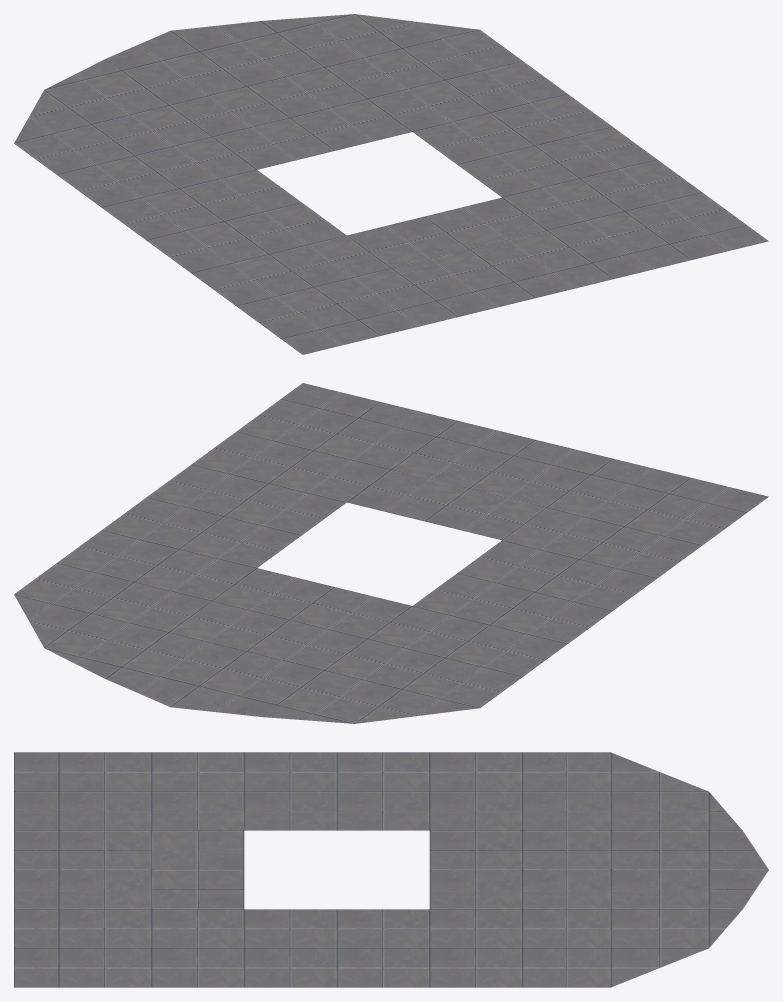
The model's file is Floor_planar_001.FBX.
3 renders of one model, top to bottom at view 1: azimuth 30°, elevation 25°; view 2: azimuth 150°, elevation 25°; view 3: azimuth 270°, elevation 25°, orthographic. The views are drawn at different scales.
Visible parts, largest first — view 1: Floor_planar_001; view 2: Floor_planar_001; view 3: Floor_planar_001.
Part boxes in pixels (left/top/right/bottom): Floor_planar_001: left=14, top=14, right=768, bottom=354; Floor_planar_001: left=14, top=383, right=768, bottom=723; Floor_planar_001: left=14, top=752, right=768, bottom=987.
Bounding box in the file's own units: 3017 × 2.51e-13 × 4096.
